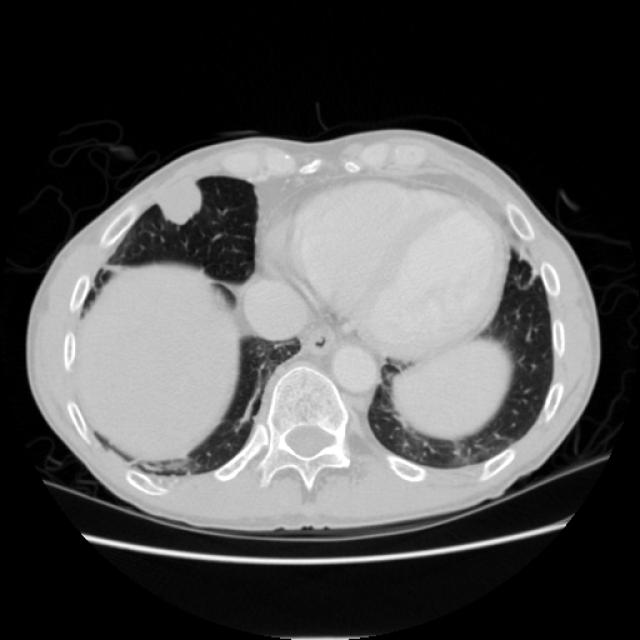nodule: (138, 160, 222, 245)
